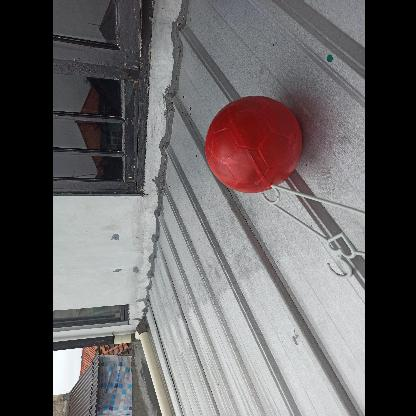red_ball: (206, 98, 300, 192)
